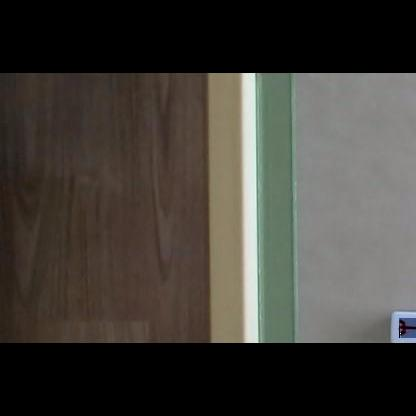7z: (399, 318, 416, 338)
